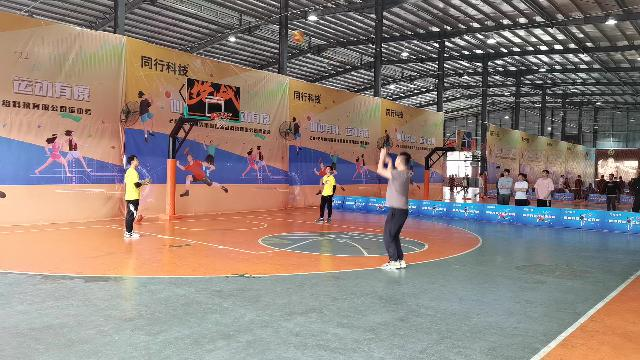ball: (293, 30, 303, 42)
basket: (211, 112, 231, 126)
